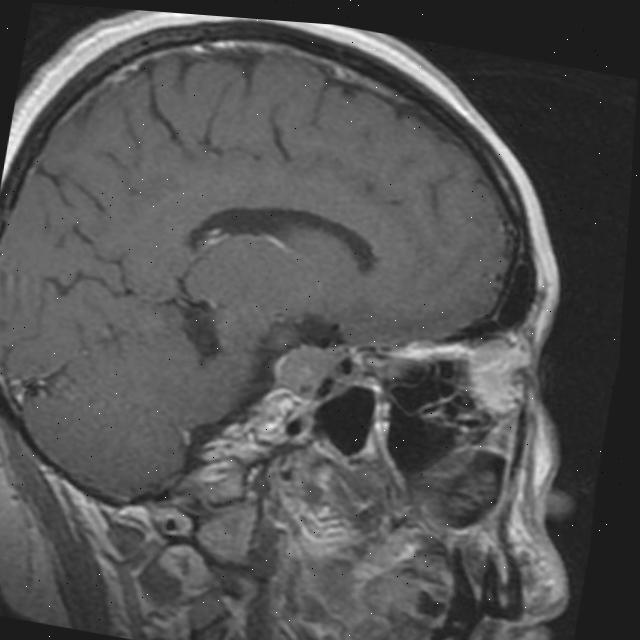Pituitary: (269, 333, 353, 410)
